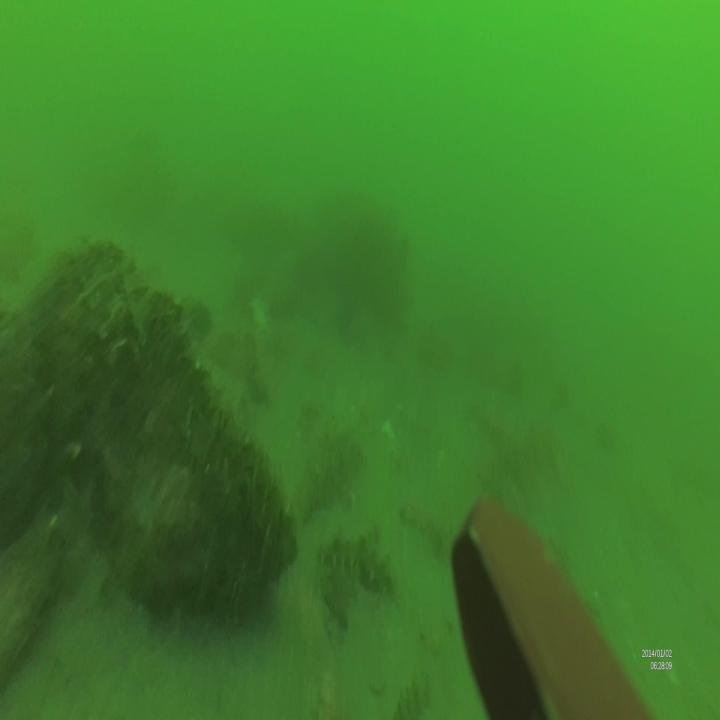holothurian: (314, 528, 397, 596), (392, 673, 433, 720)
